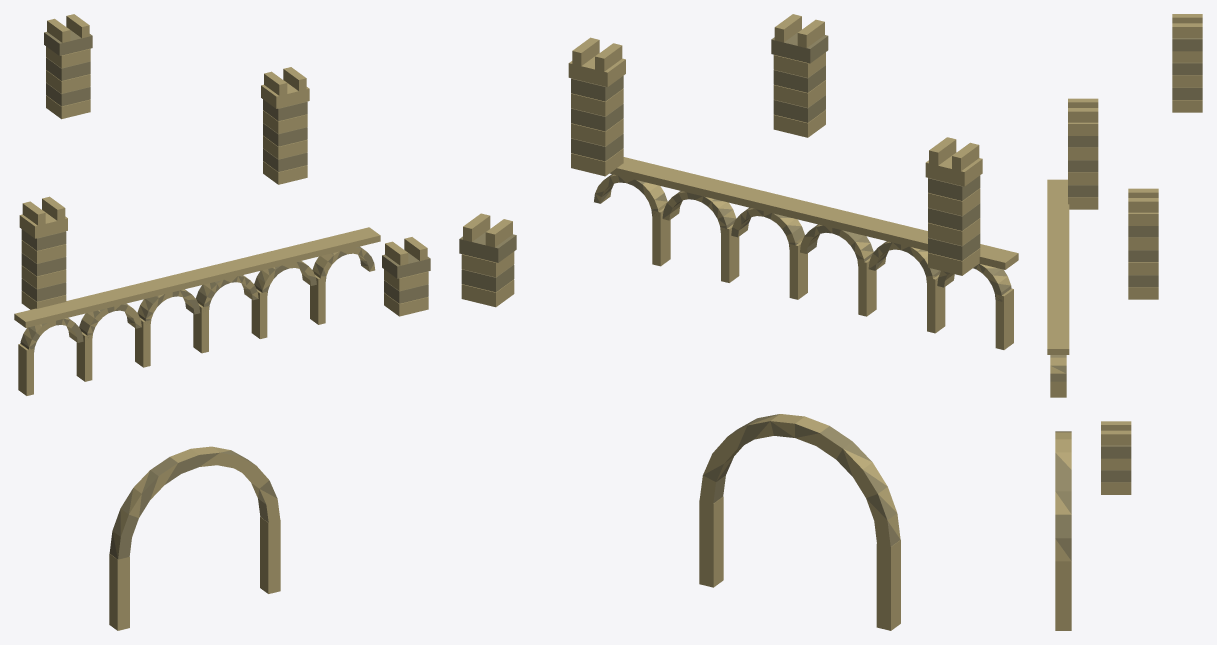
File: WaterfallIsland_Ruins.obj
The picture shows the model from 3 angles, left to right: view 1: azimuth 30°, elevation 25°; view 2: azimuth 150°, elevation 25°; view 3: azimuth 270°, elevation 25°; orthographic projection. The views are drawn at different scales.
Parts seen in each view (by area): view 1: WaterfallIsland_Ruins; view 2: WaterfallIsland_Ruins; view 3: WaterfallIsland_Ruins.
Boxes of the visible parts, x1=… form: WaterfallIsland_Ruins: x1=14, y1=14, x2=430, y2=630; WaterfallIsland_Ruins: x1=459, y1=14, x2=1018, y2=630; WaterfallIsland_Ruins: x1=1047, y1=14, x2=1202, y2=630.
Size of the model in its own units: 88.9 by 109 by 28.25.
Materials: 2 (2 with a texture image).
